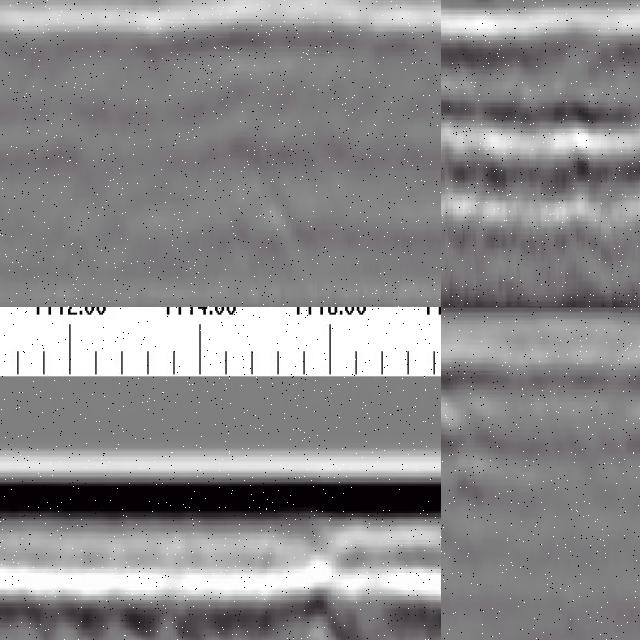loose: (36, 556, 396, 640), (442, 391, 572, 497)
